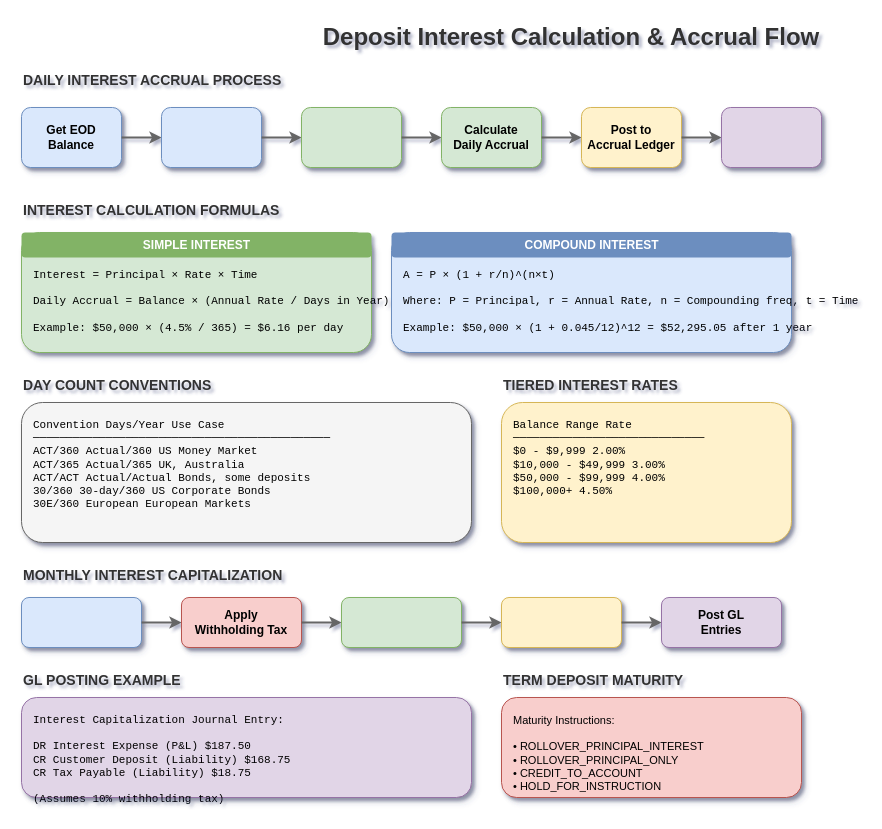
Image size: 882x829. Some labels were removed from this diagram. The centre of each missing label's shape, as x and y in pixels:
"Calculate Daily Rate" goes at (352,138).
"Calculate Net Interest" goes at (402,623).
"Credit to Account" goes at (562,623).
"Get Interest Rate Tier" goes at (212,138).
"Sum Daily Accruals" goes at (82,623).
"Update Account" goes at (772,138).
